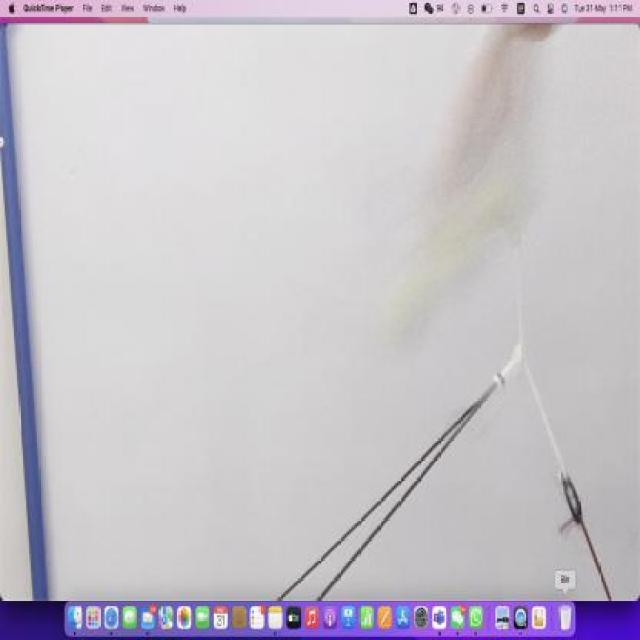baseball: (388, 197, 517, 351)
